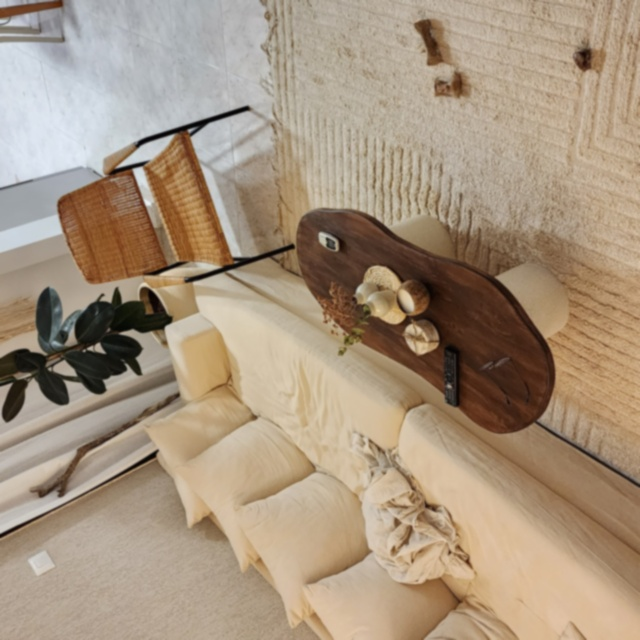glasses: (475, 353, 533, 413)
